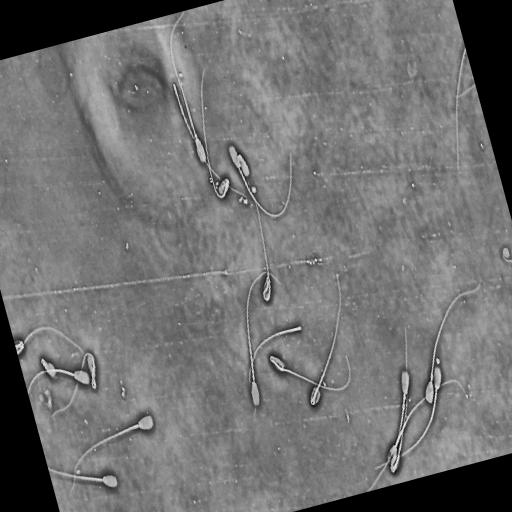distal-droplet: (367, 368, 411, 491), (402, 403, 404, 409)
folded-tail: (311, 272, 340, 404), (201, 69, 229, 198), (51, 352, 96, 417), (270, 355, 350, 390), (393, 327, 407, 472), (254, 198, 270, 300), (265, 284, 268, 297)
loose-head: (38, 355, 57, 381), (234, 150, 251, 179)
loose-tail: (170, 80, 250, 203), (247, 323, 303, 417), (454, 44, 466, 172)
normal: (65, 408, 157, 498), (385, 377, 468, 466), (373, 365, 442, 471), (425, 281, 480, 403), (167, 11, 208, 168), (225, 141, 295, 220), (307, 268, 342, 408), (245, 269, 279, 409), (199, 64, 231, 201), (45, 350, 98, 420), (268, 353, 352, 393), (389, 320, 409, 475), (252, 193, 273, 304), (48, 464, 120, 491), (26, 366, 91, 395)
proximal-droplet: (430, 372, 433, 381)
